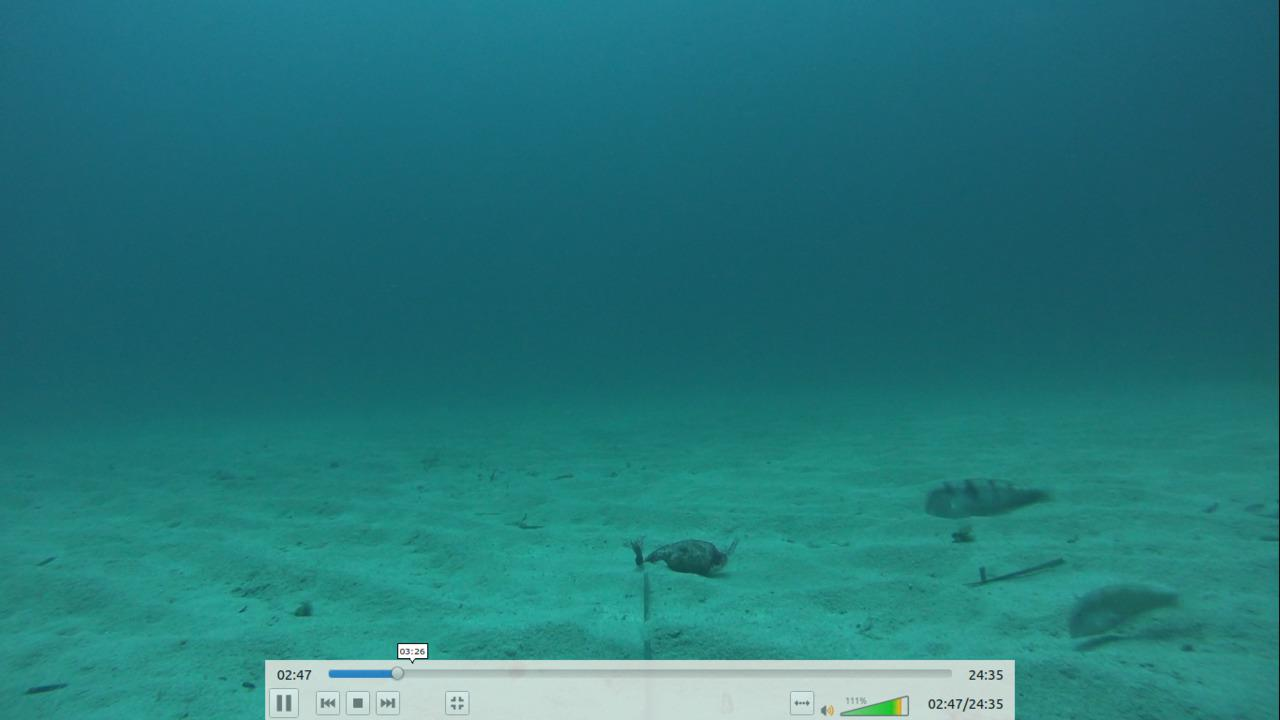raor: (1062, 576, 1188, 645), (921, 473, 1059, 529)
